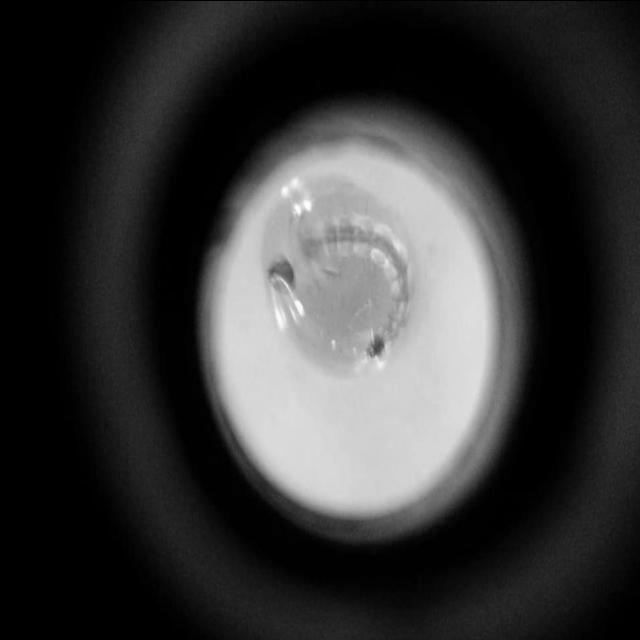larvas: (268, 222, 405, 360)
